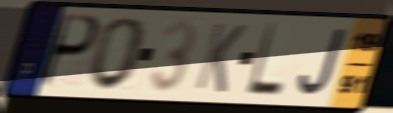3: (148, 15, 199, 97)
J: (296, 27, 349, 98)
K: (191, 21, 249, 96)
L: (243, 21, 286, 99)
O: (85, 15, 150, 93)
P: (35, 12, 103, 91)
